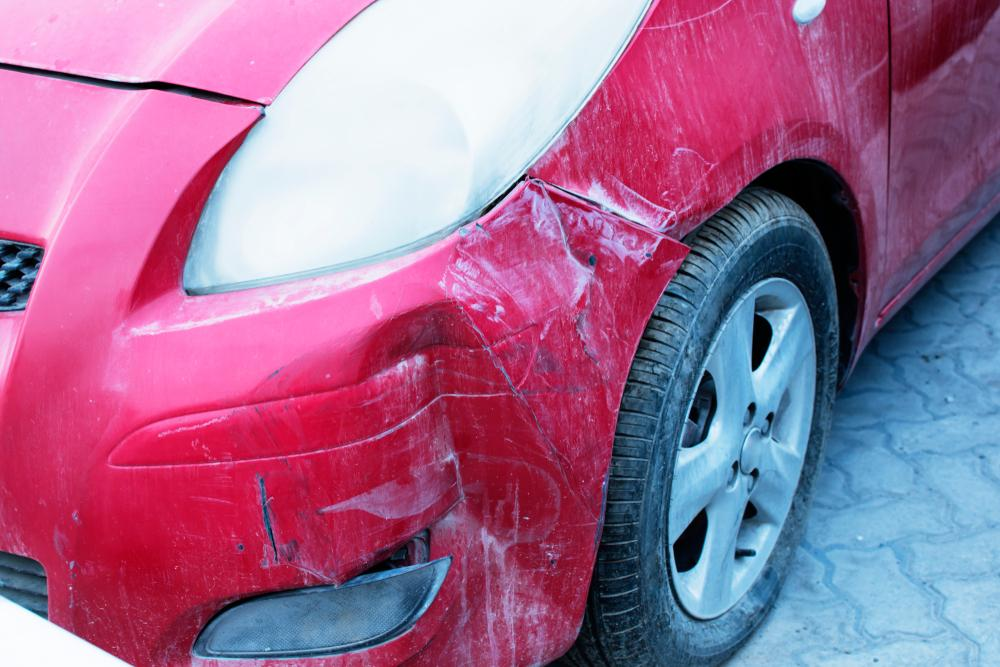crack: (254, 471, 283, 565)
dent: (345, 297, 599, 653)
scratch: (437, 178, 666, 358)
